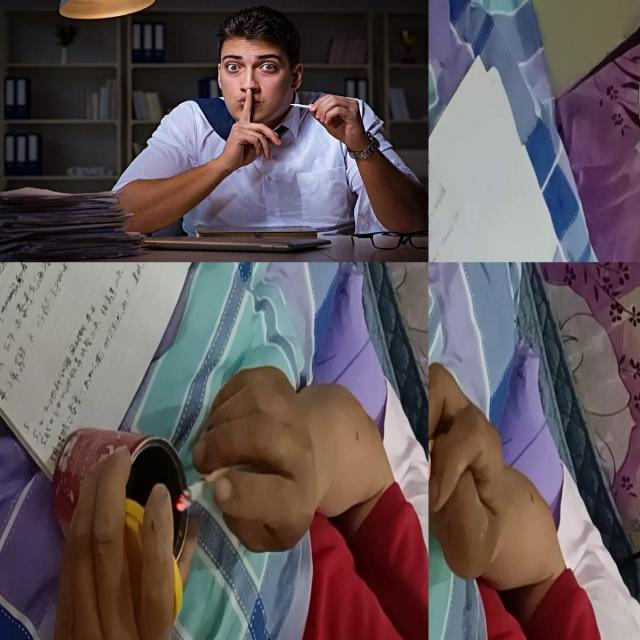smoke: (174, 467, 236, 513), (428, 438, 436, 483), (288, 103, 319, 111)
